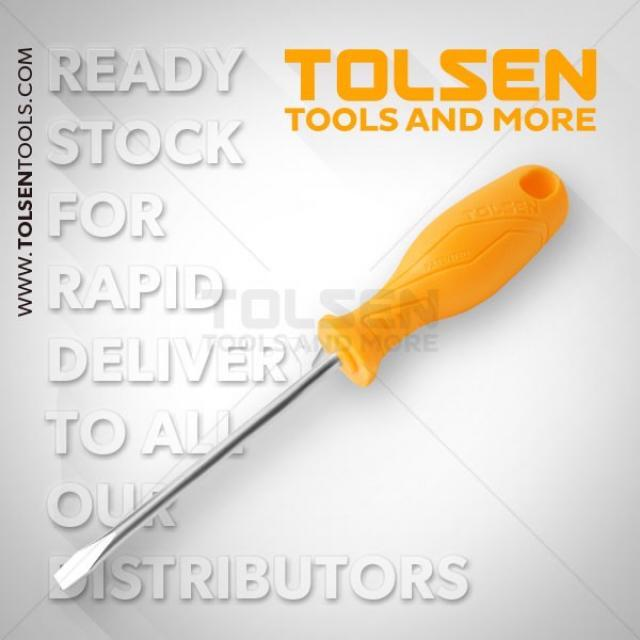screwdriver: (49, 162, 572, 594)
